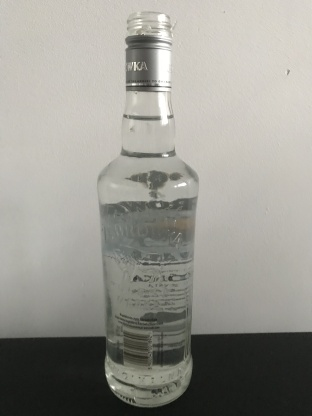nakretka: (123, 10, 174, 92)
